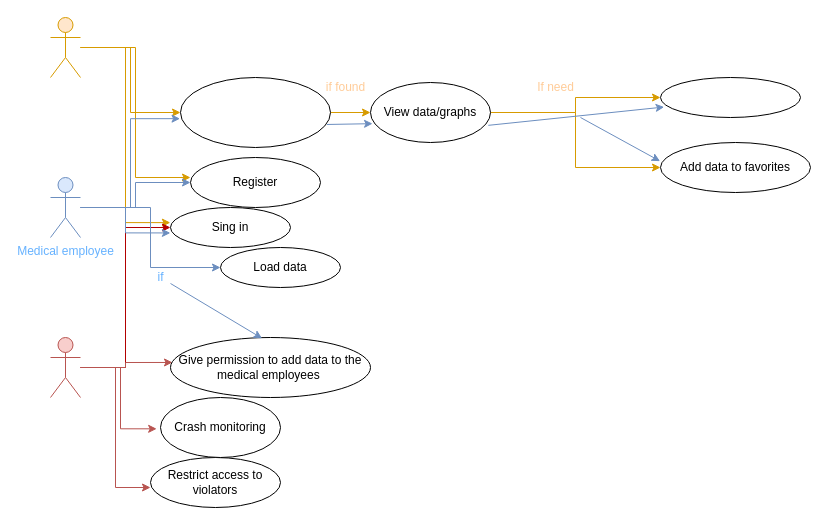
This 828x525 diagram has some shape labels left out. Each missing label, with the centre of its shape:
Data search + filter by criteria: the point at 255,112
Moderator: the point at 65,367
Unload data: the point at 730,97
User: the point at 65,47
